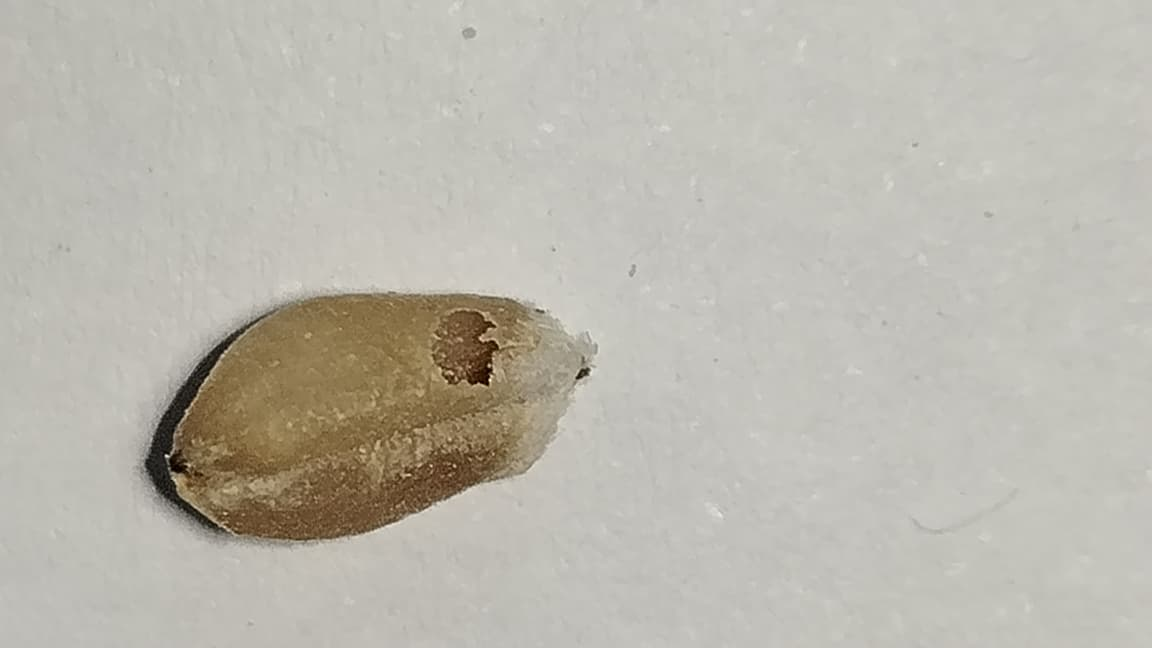damage: (147, 292, 593, 539)
insectdamage: (407, 292, 526, 392)
